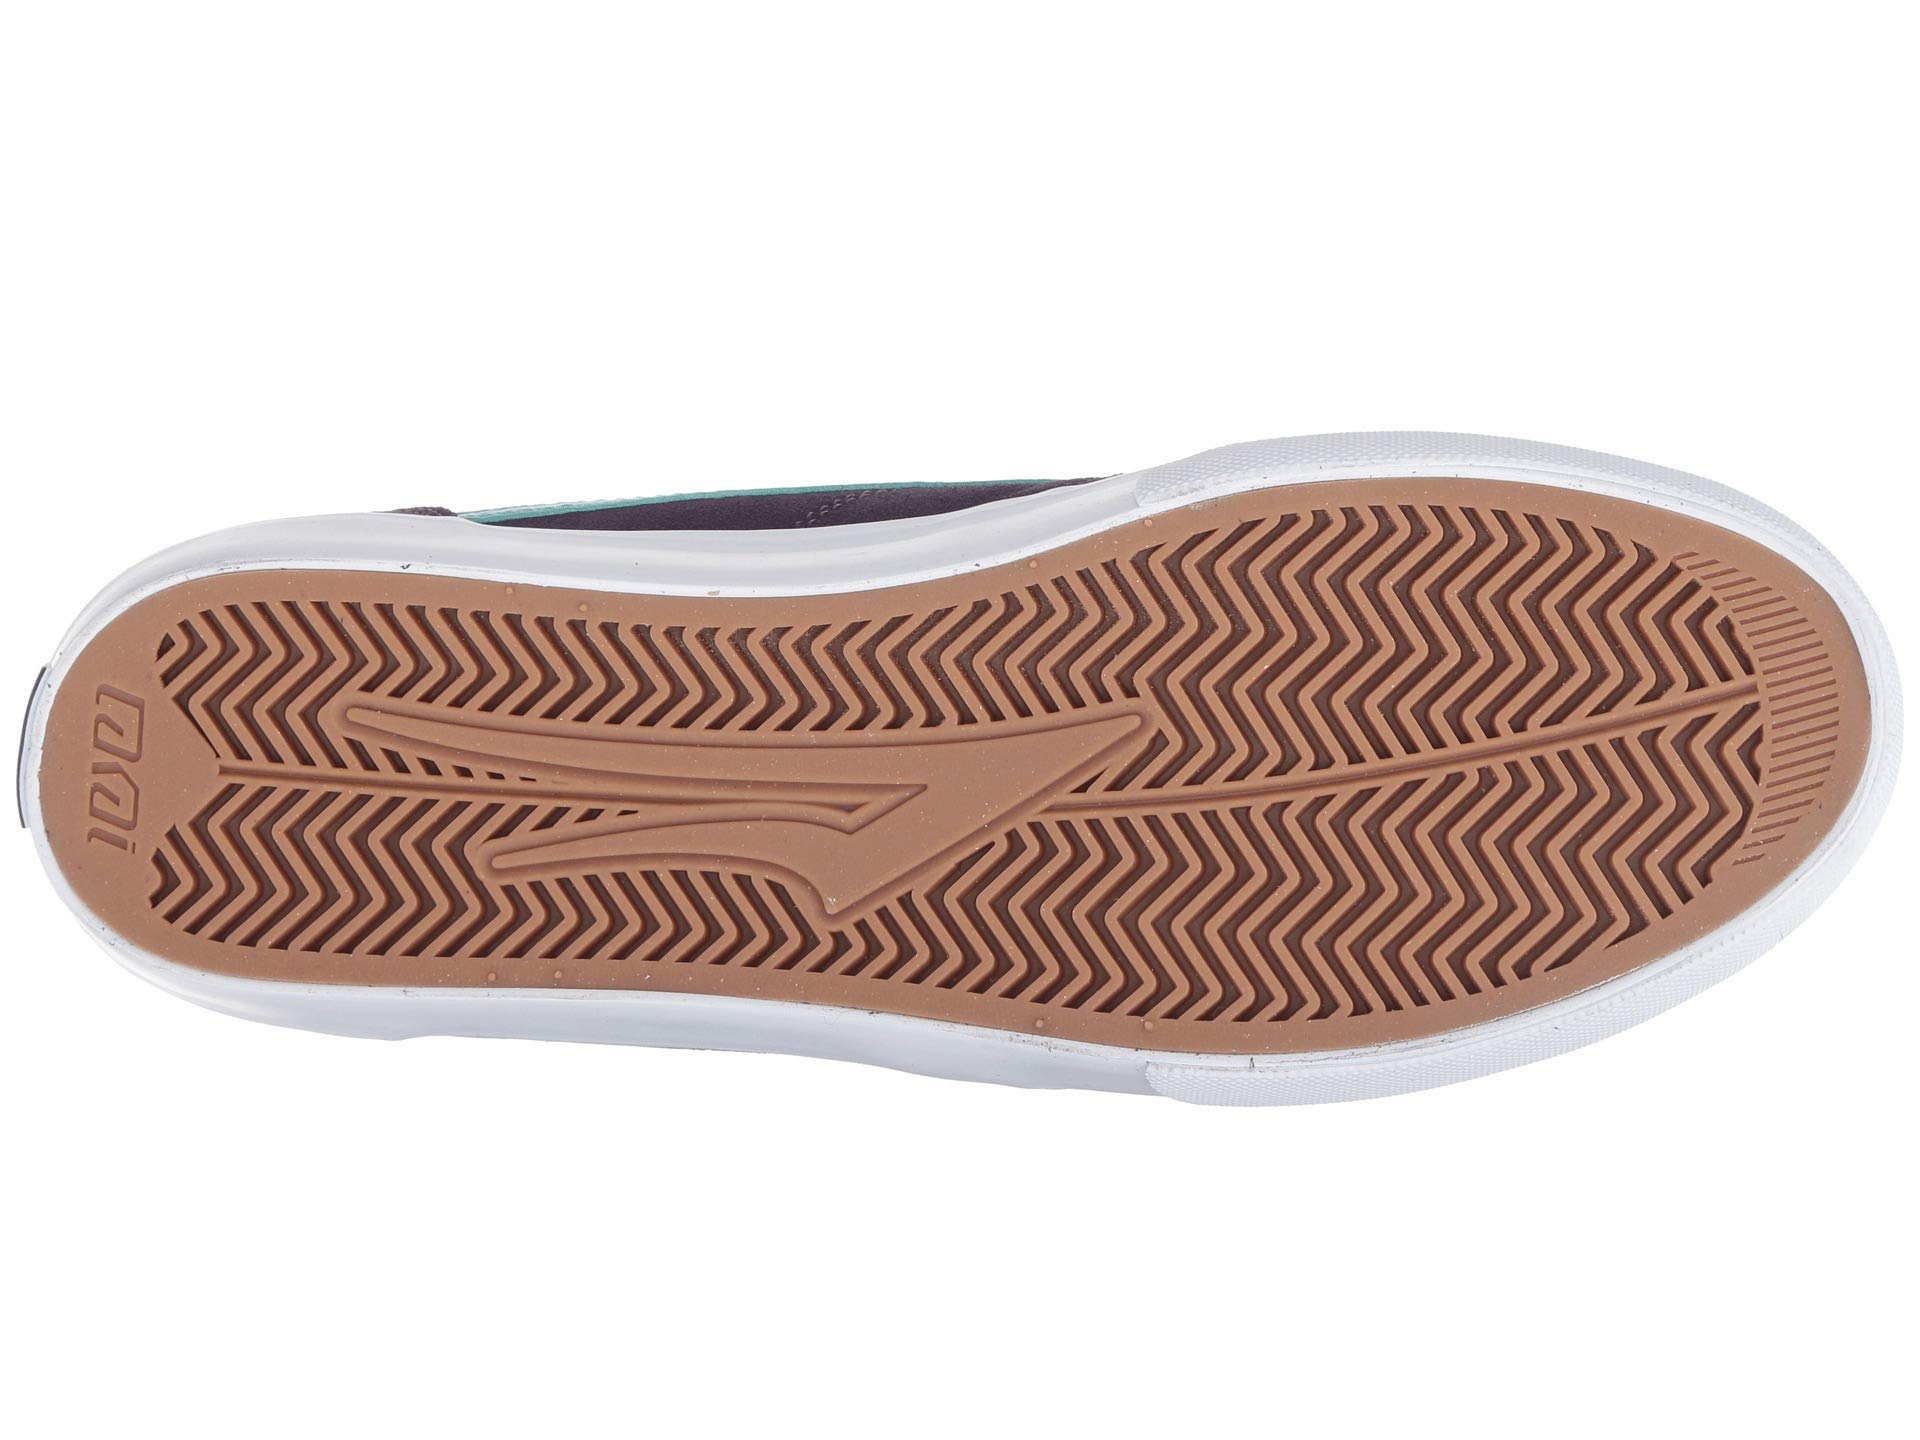chevron: (1219, 537, 1441, 764), (47, 681, 225, 892)
text: (47, 681, 225, 892)
